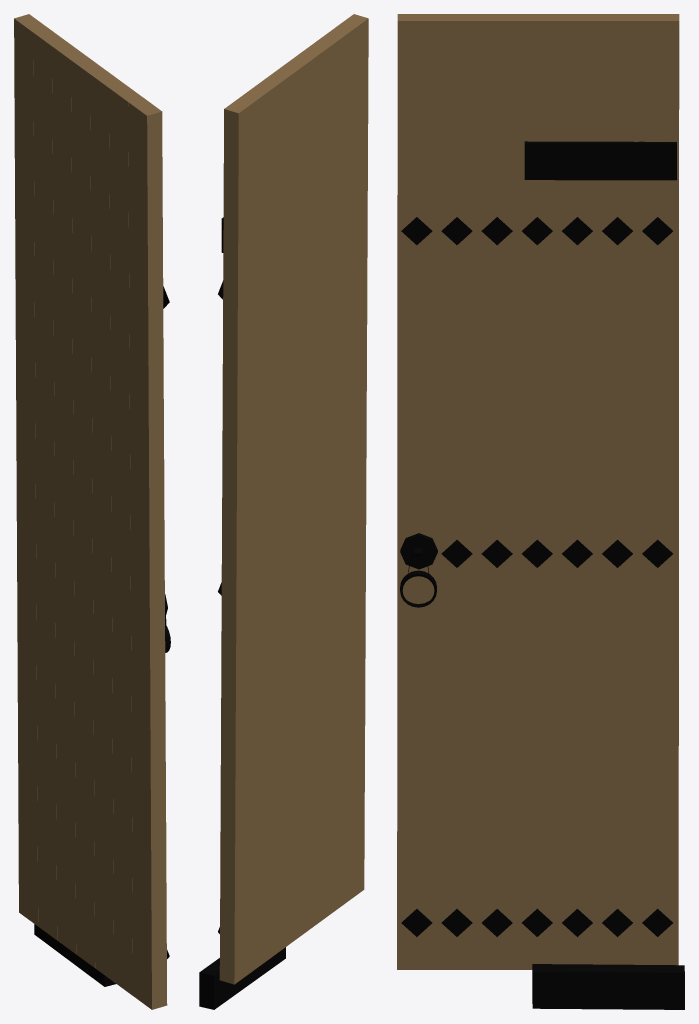
File: right door.fbx
The picture shows the model from 3 angles, left to right: view 1: azimuth 30°, elevation 25°; view 2: azimuth 150°, elevation 25°; view 3: azimuth 270°, elevation 25°; orthographic projection. The views are drawn at different scales.
Visible parts, largest first — view 1: polySurface1, polySurface17, polySurface33, polySurface13, polySurface25, polySurface21, polySurface29, polySurface12; view 2: polySurface17, polySurface33, polySurface13, polySurface21, polySurface1, polySurface29, polySurface25, polySurface12; view 3: polySurface29, polySurface33, polySurface1, polySurface13, polySurface25, polySurface21, polySurface17, polySurface12, polySurface61, pCylinder4.
Part boxes in pixels (x1,y1,x2,y2): polySurface1: [128, 97, 167, 1009]; polySurface17: [14, 14, 47, 926]; polySurface33: [109, 83, 142, 995]; polySurface13: [71, 56, 104, 967]; polySurface25: [52, 42, 85, 953]; polySurface21: [33, 28, 66, 940]; polySurface29: [90, 70, 123, 981]; polySurface12: [34, 924, 115, 986]; polySurface17: [219, 95, 257, 984]; polySurface33: [317, 27, 350, 916]; polySurface13: [280, 54, 313, 943]; polySurface21: [243, 81, 276, 970]; polySurface1: [335, 14, 368, 902]; polySurface29: [298, 41, 331, 929]; polySurface25: [262, 68, 294, 956]; polySurface12: [199, 947, 285, 1009]; polySurface29: [478, 14, 518, 969]; polySurface33: [437, 14, 478, 969]; polySurface1: [397, 14, 438, 969]; polySurface13: [518, 14, 558, 969]; polySurface25: [558, 14, 598, 964]; polySurface21: [598, 14, 638, 964]; polySurface17: [638, 14, 679, 965]; polySurface12: [532, 964, 684, 1009]; polySurface61: [524, 141, 676, 180]; pCylinder4: [400, 533, 437, 607].
Bounding box in the file's own units: 2.07 × 48.24 × 12.87.
